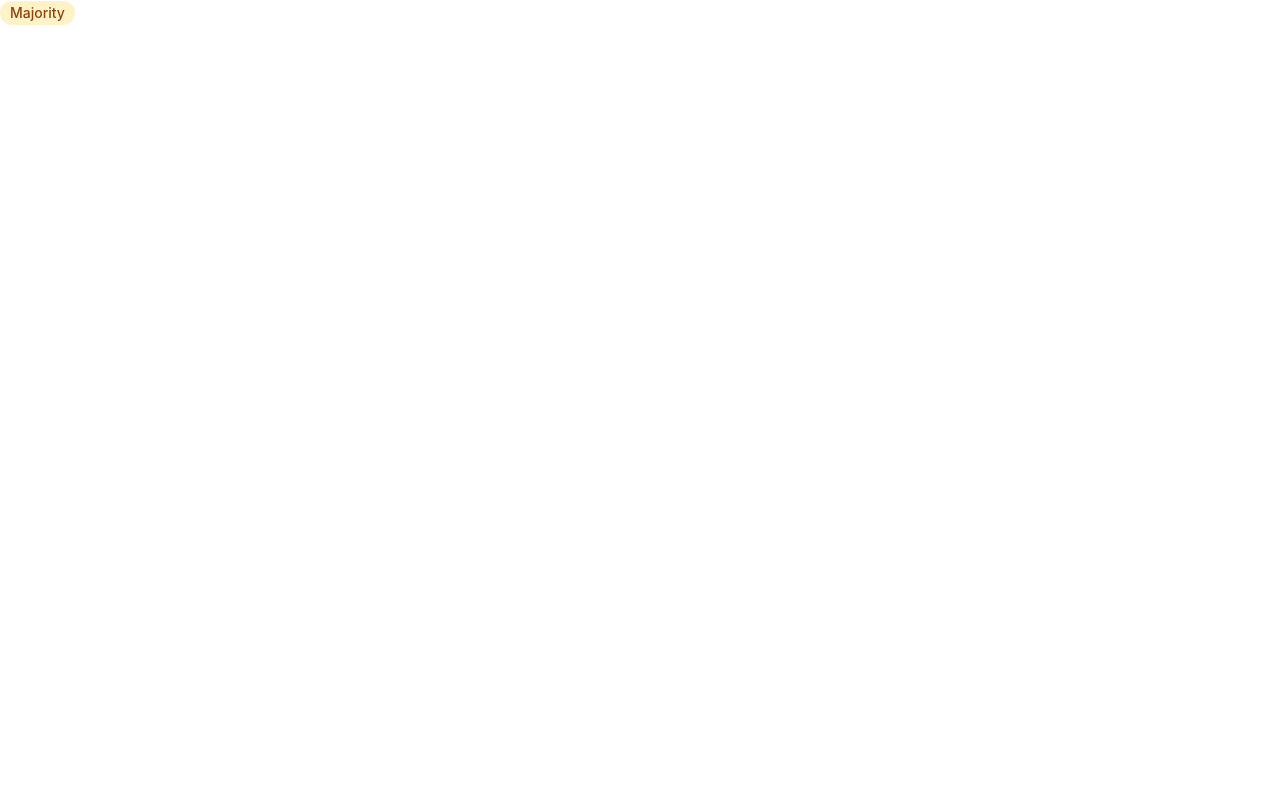
Test case: RuleBadge › clicking majority opens the rules modal with every rule and the current one highlighted
Click the button with aria-label "Rule:" at (37, 13), box [0,1,75,25]
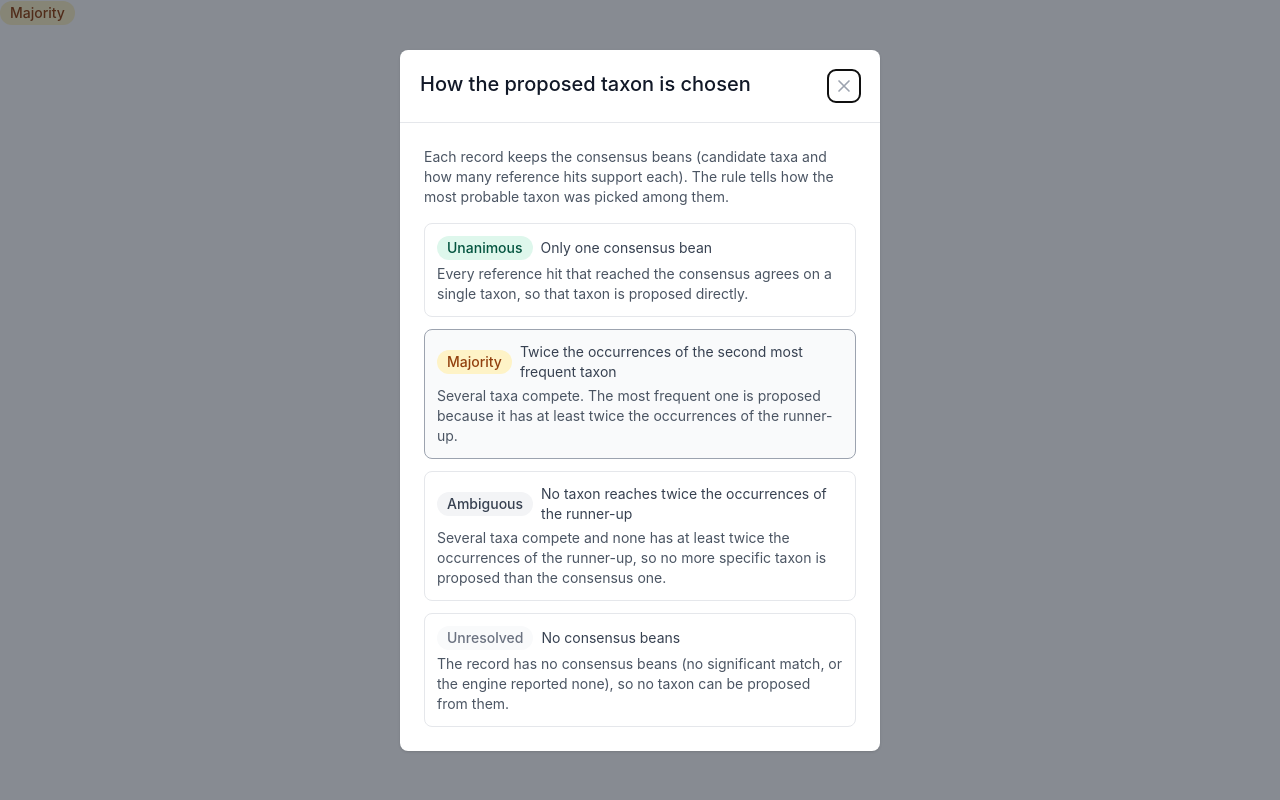
Now the dialog shows "How the proposed taxon is chosen", box [420,72,751,96]
Now the list item that starts with "Majority" is shown, box [447,352,502,370]
Now the list item that starts with "Majority" shows "Several taxa compete. The most frequent one is proposed because it has at least twice the occurrences of the runner-up.", box [437,386,832,444]
